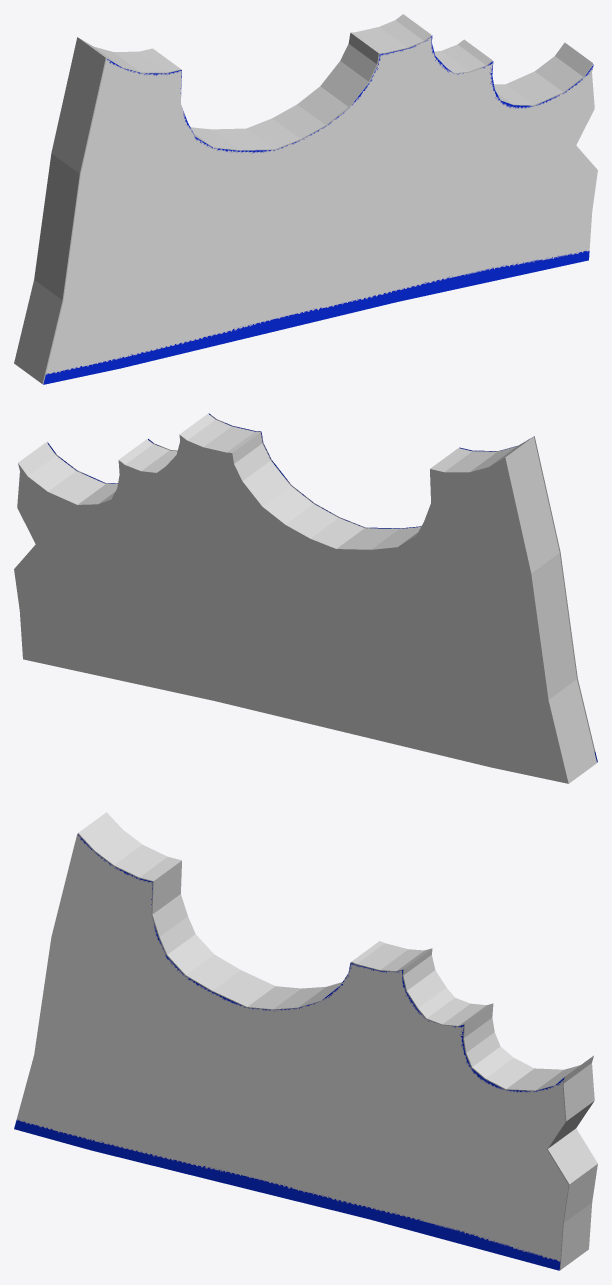
3 views of the same model, one above another, from view 1: azimuth 30°, elevation 25°; view 2: azimuth 150°, elevation 25°; view 3: azimuth 330°, elevation 25° (orthographic).
Parts seen in each view (by area): view 1: Out_3_1, Out_3_0; view 2: Out_3_0, Out_3_1; view 3: Out_3_1, Out_3_0.
Part boxes in pixels (bbox=[...]): Out_3_1: bbox=[43, 35, 597, 384]; Out_3_0: bbox=[14, 14, 592, 384]; Out_3_0: bbox=[14, 414, 596, 783]; Out_3_1: bbox=[47, 413, 597, 762]; Out_3_1: bbox=[14, 834, 568, 1270]; Out_3_0: bbox=[78, 812, 597, 1270].
Bounding box in the file's own units: 5.62 × 3.1 × 0.515.
Materials: 2 (1 with a texture image).
